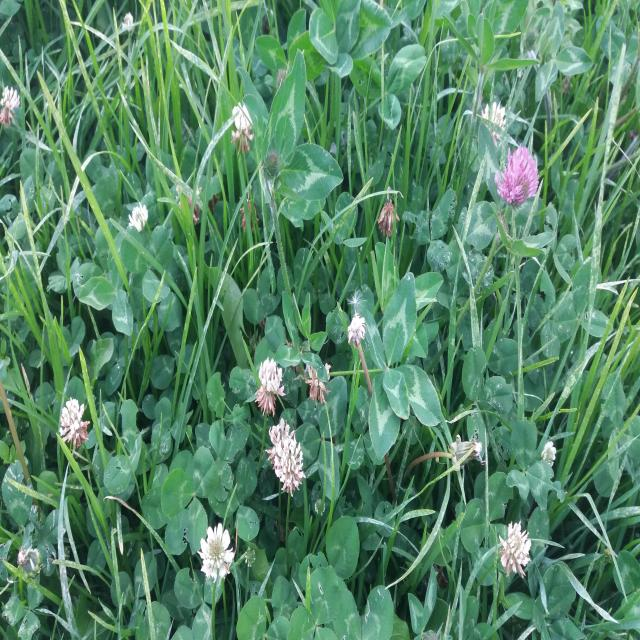Four Leaf Clover: (357, 272, 441, 460)
